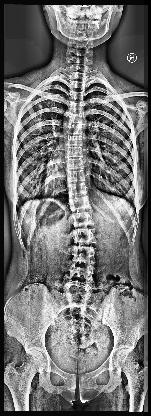Vertebrae: (72, 246, 98, 264), (72, 228, 98, 244), (70, 266, 96, 280), (66, 280, 95, 292), (68, 196, 92, 209), (72, 212, 94, 226), (66, 183, 90, 195), (68, 101, 84, 116), (68, 170, 86, 182), (66, 146, 84, 158), (68, 123, 84, 135), (68, 112, 84, 124), (66, 158, 84, 168), (70, 90, 85, 102), (67, 136, 83, 145)
